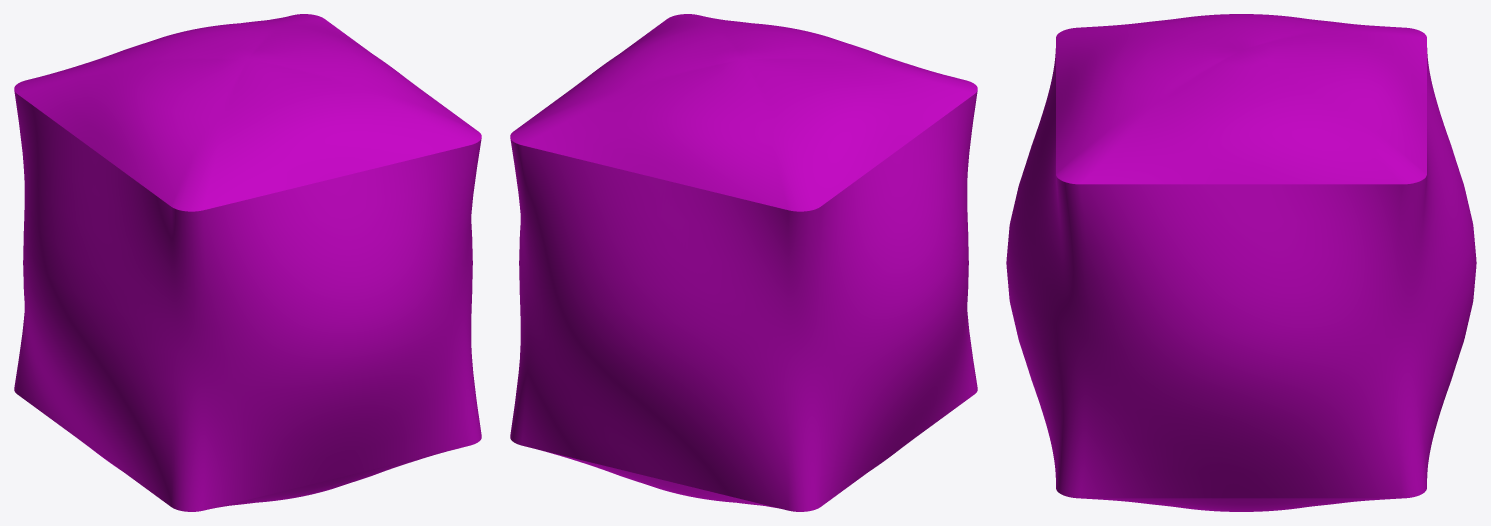
The model's file is Cubo.dae.
3 views of the same model, side by side, from view 1: azimuth 30°, elevation 25°; view 2: azimuth 150°, elevation 25°; view 3: azimuth 270°, elevation 25° (orthographic). The views are drawn at different scales.
Visible parts, largest first — view 1: ID2; view 2: ID2; view 3: ID2.
Boxes of the visible parts, x1=… form: ID2: x1=14, y1=14, x2=481, y2=511; ID2: x1=510, y1=14, x2=977, y2=511; ID2: x1=1006, y1=14, x2=1476, y2=511.
Size of the model in its own units: 0.2413 by 0.2413 by 0.2413.
